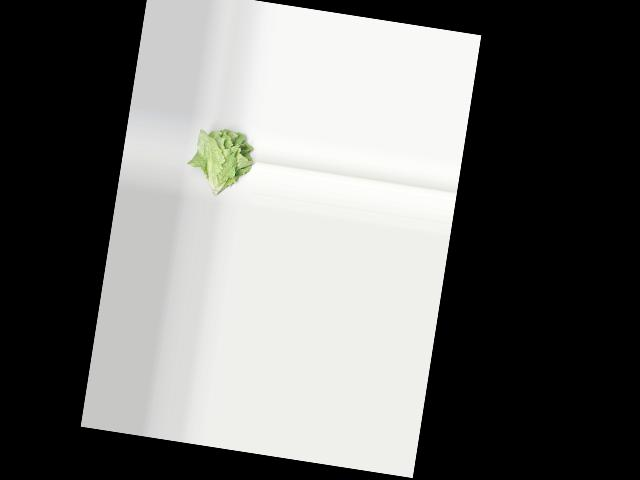lettuce: (183, 123, 257, 201)
